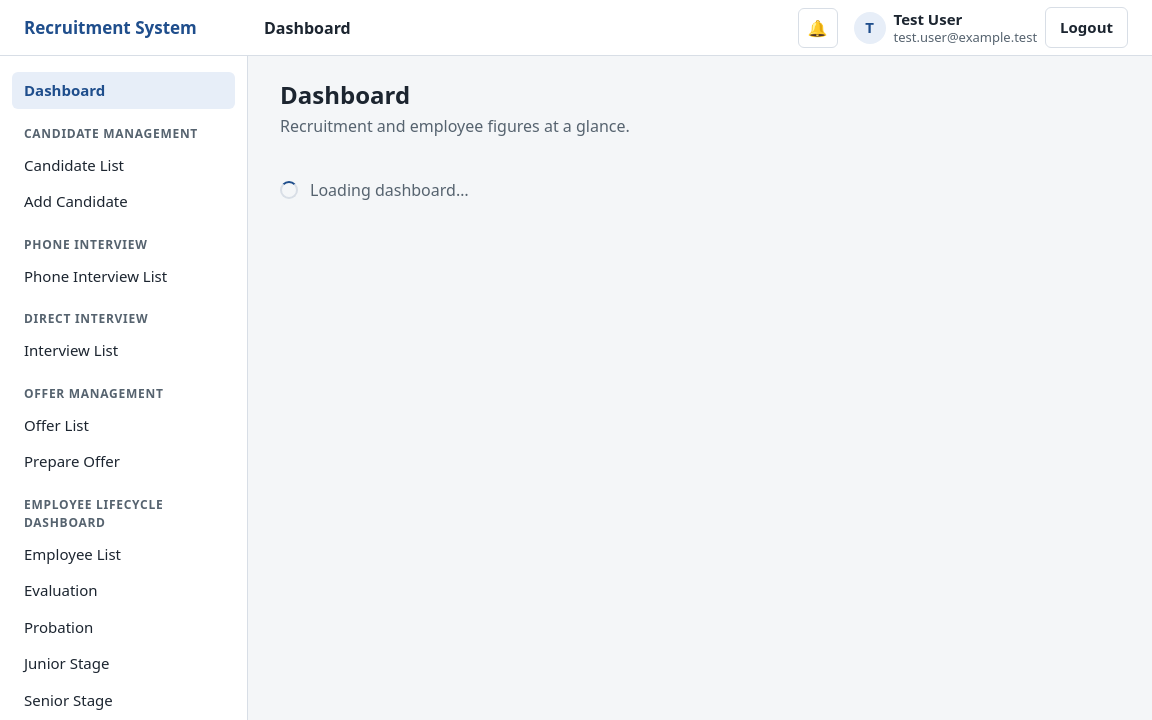
Test: notification bell › shows a loading message while the request runs
Click the button named "Notifications" at (818,28), box [798,8,838,48]
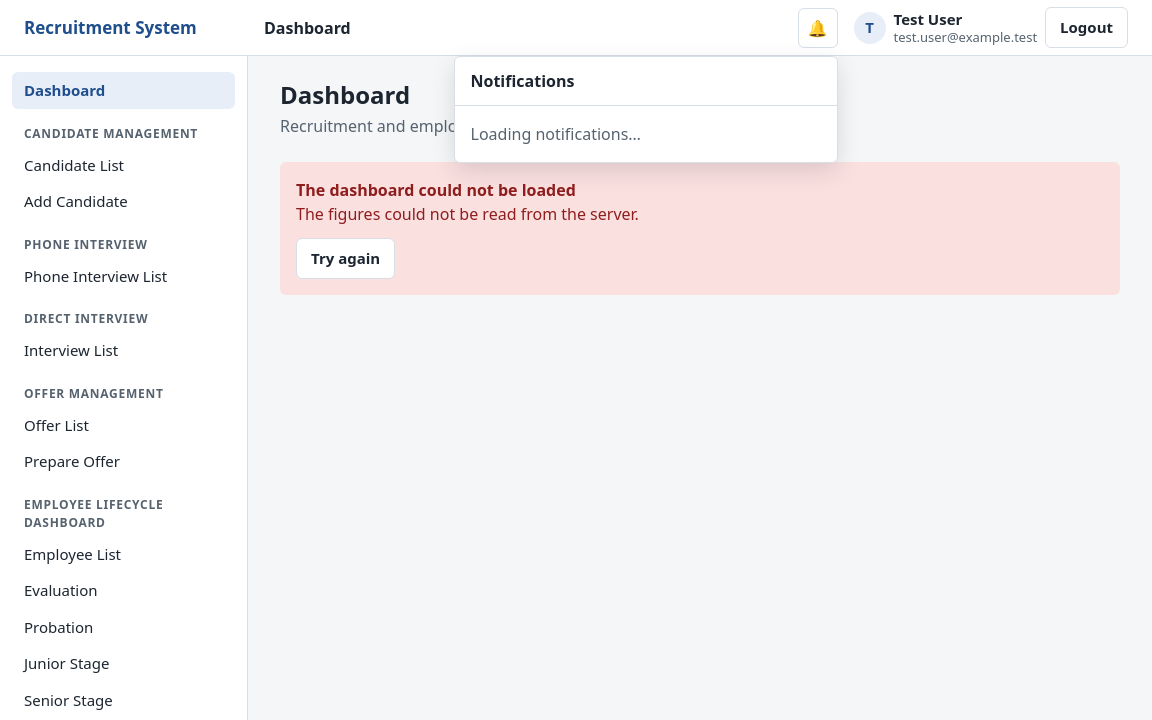
Check: the text "Loading notifications…" is shown, box [470,122,641,144]
